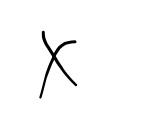mult: (39, 30, 77, 99)
